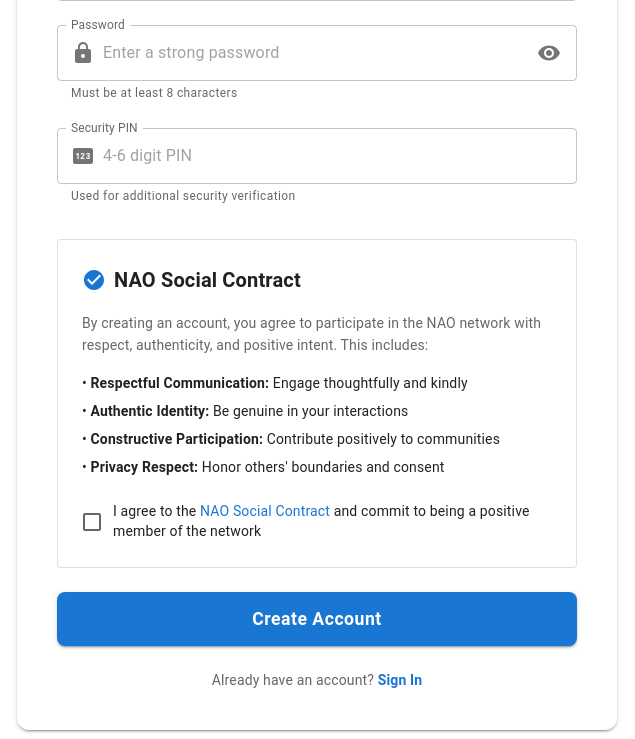
Test: SignUpPage › clears field errors when user starts typing
(page scrolled)
Note: First trigger validation errors
Click the button "Create Account". click: point(317, 619)
box: x1=57 y1=592 x2=577 y2=646
(page scrolled)
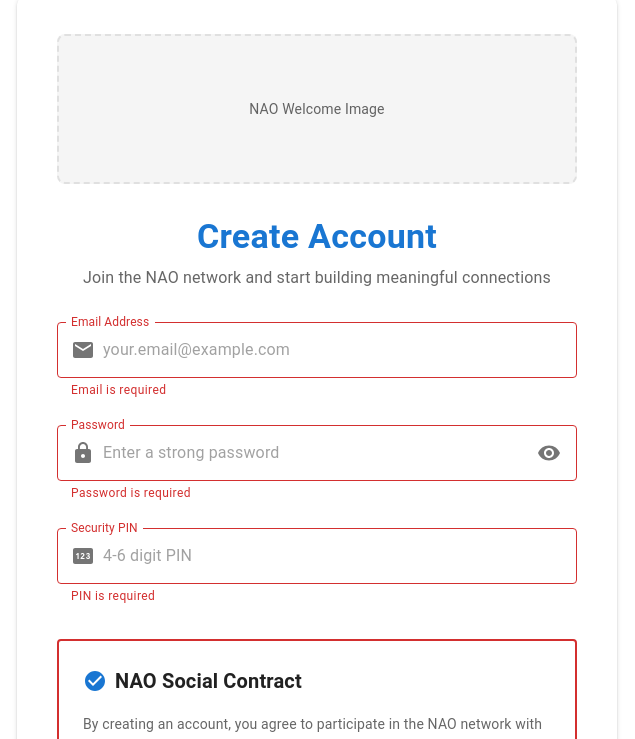
Check: the text "Email is required" is shown, box x1=71 y1=383 x2=166 y2=397
Note: Then clear error by typing
Type "test@example.com" into the field labelled "Email Address". click: point(340, 350)
box: x1=103 y1=322 x2=577 y2=378
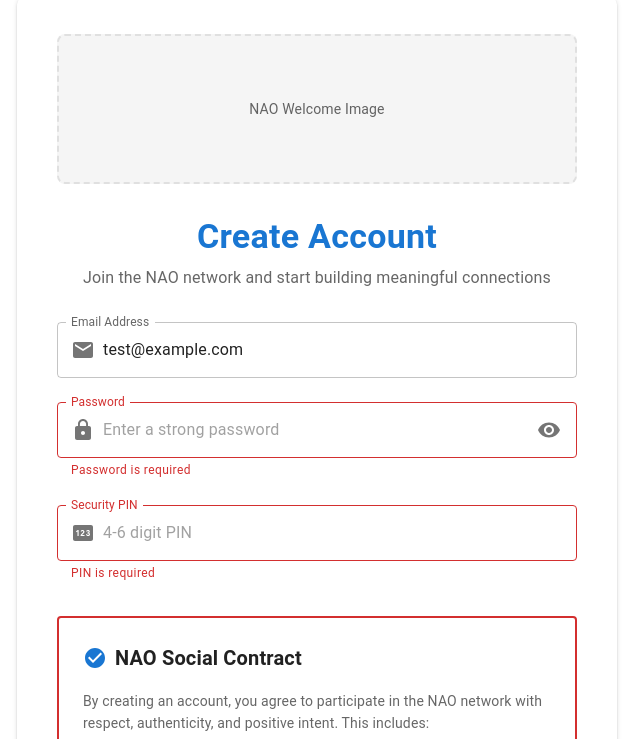
Check: the text "Email is required" is gone
